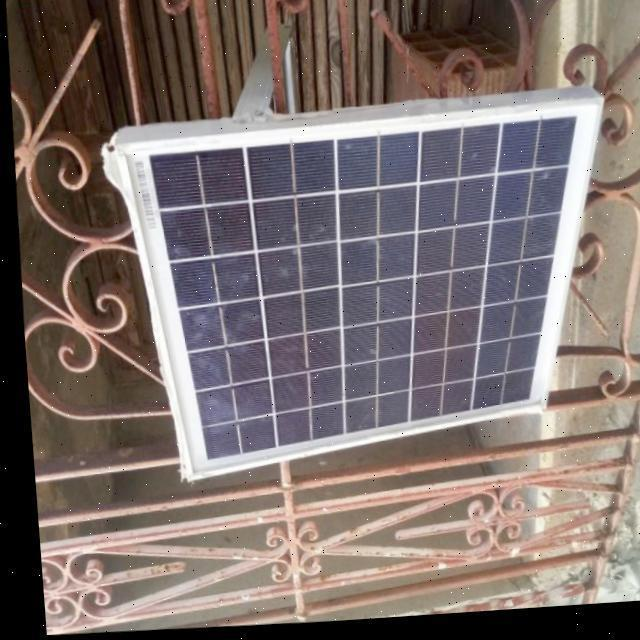Normal Solar Panel: (109, 99, 618, 489)
